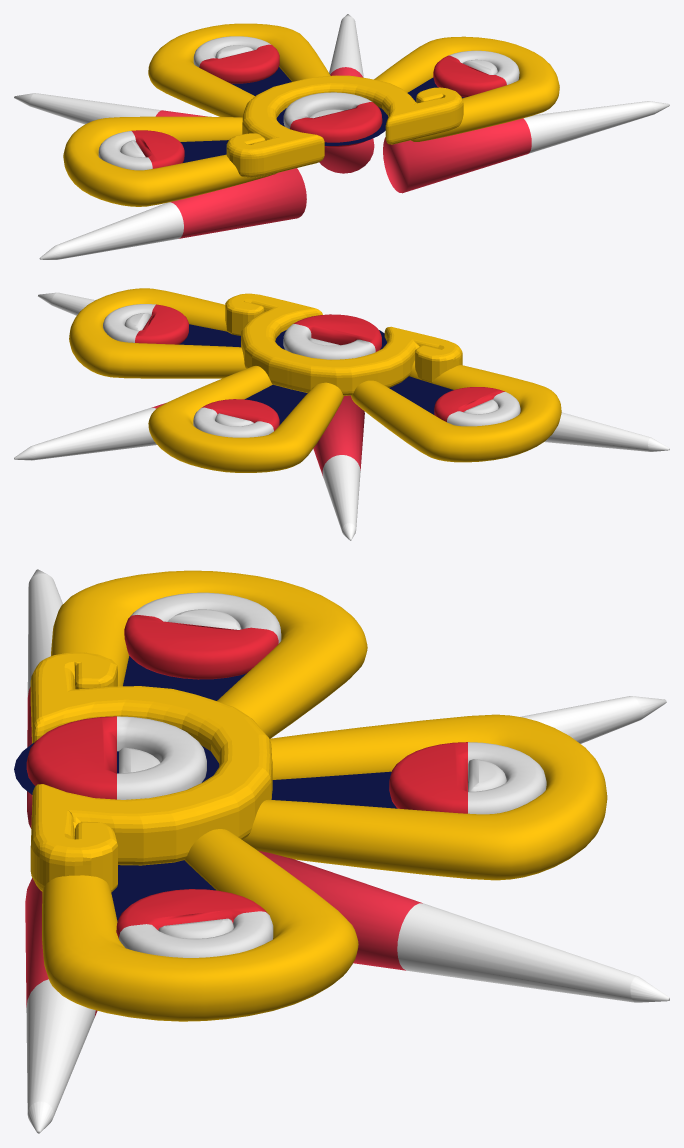
The model's file is xipe_blender_v1.gltf.
3 views of the same model, one above another, from view 1: azimuth 30°, elevation 25°; view 2: azimuth 150°, elevation 25°; view 3: azimuth 270°, elevation 25° (orthographic). The views are drawn at different scales.
Parts seen in each view (by area): view 1: Tear canvas.001, Spike true, Outer ring, Star.001, outer, Tear backgounr.001, Circle.001; view 2: Tear canvas.001, Spike true, Outer ring, Star.001, outer, Tear backgounr.001; view 3: Tear canvas.001, Spike true, Outer ring, Star.001, outer, Tear backgounr.001, Circle.001.
Part boxes in pixels (bbox=[...]): Tear canvas.001: bbox=[63, 23, 559, 206]; Spike true: bbox=[14, 14, 669, 259]; Outer ring: bbox=[226, 75, 463, 177]; Star.001: bbox=[98, 36, 519, 170]; outer: bbox=[283, 92, 382, 147]; Tear backgounr.001: bbox=[180, 67, 464, 162]; Circle.001: bbox=[276, 107, 388, 145]; Tear canvas.001: bbox=[69, 288, 561, 472]; Spike true: bbox=[14, 292, 669, 540]; Outer ring: bbox=[225, 293, 462, 395]; Star.001: bbox=[103, 304, 520, 437]; outer: bbox=[283, 314, 381, 359]; Tear backgounr.001: bbox=[179, 324, 453, 425]; Tear canvas.001: bbox=[42, 570, 607, 1021]; Spike true: bbox=[25, 569, 669, 1133]; Outer ring: bbox=[30, 652, 272, 892]; Star.001: bbox=[116, 592, 546, 957]; outer: bbox=[26, 716, 206, 799]; Tear backgounr.001: bbox=[111, 656, 397, 921]; Circle.001: bbox=[14, 743, 219, 794].
Bounding box in the file's own units: 4.72 × 0.616 × 2.33.
